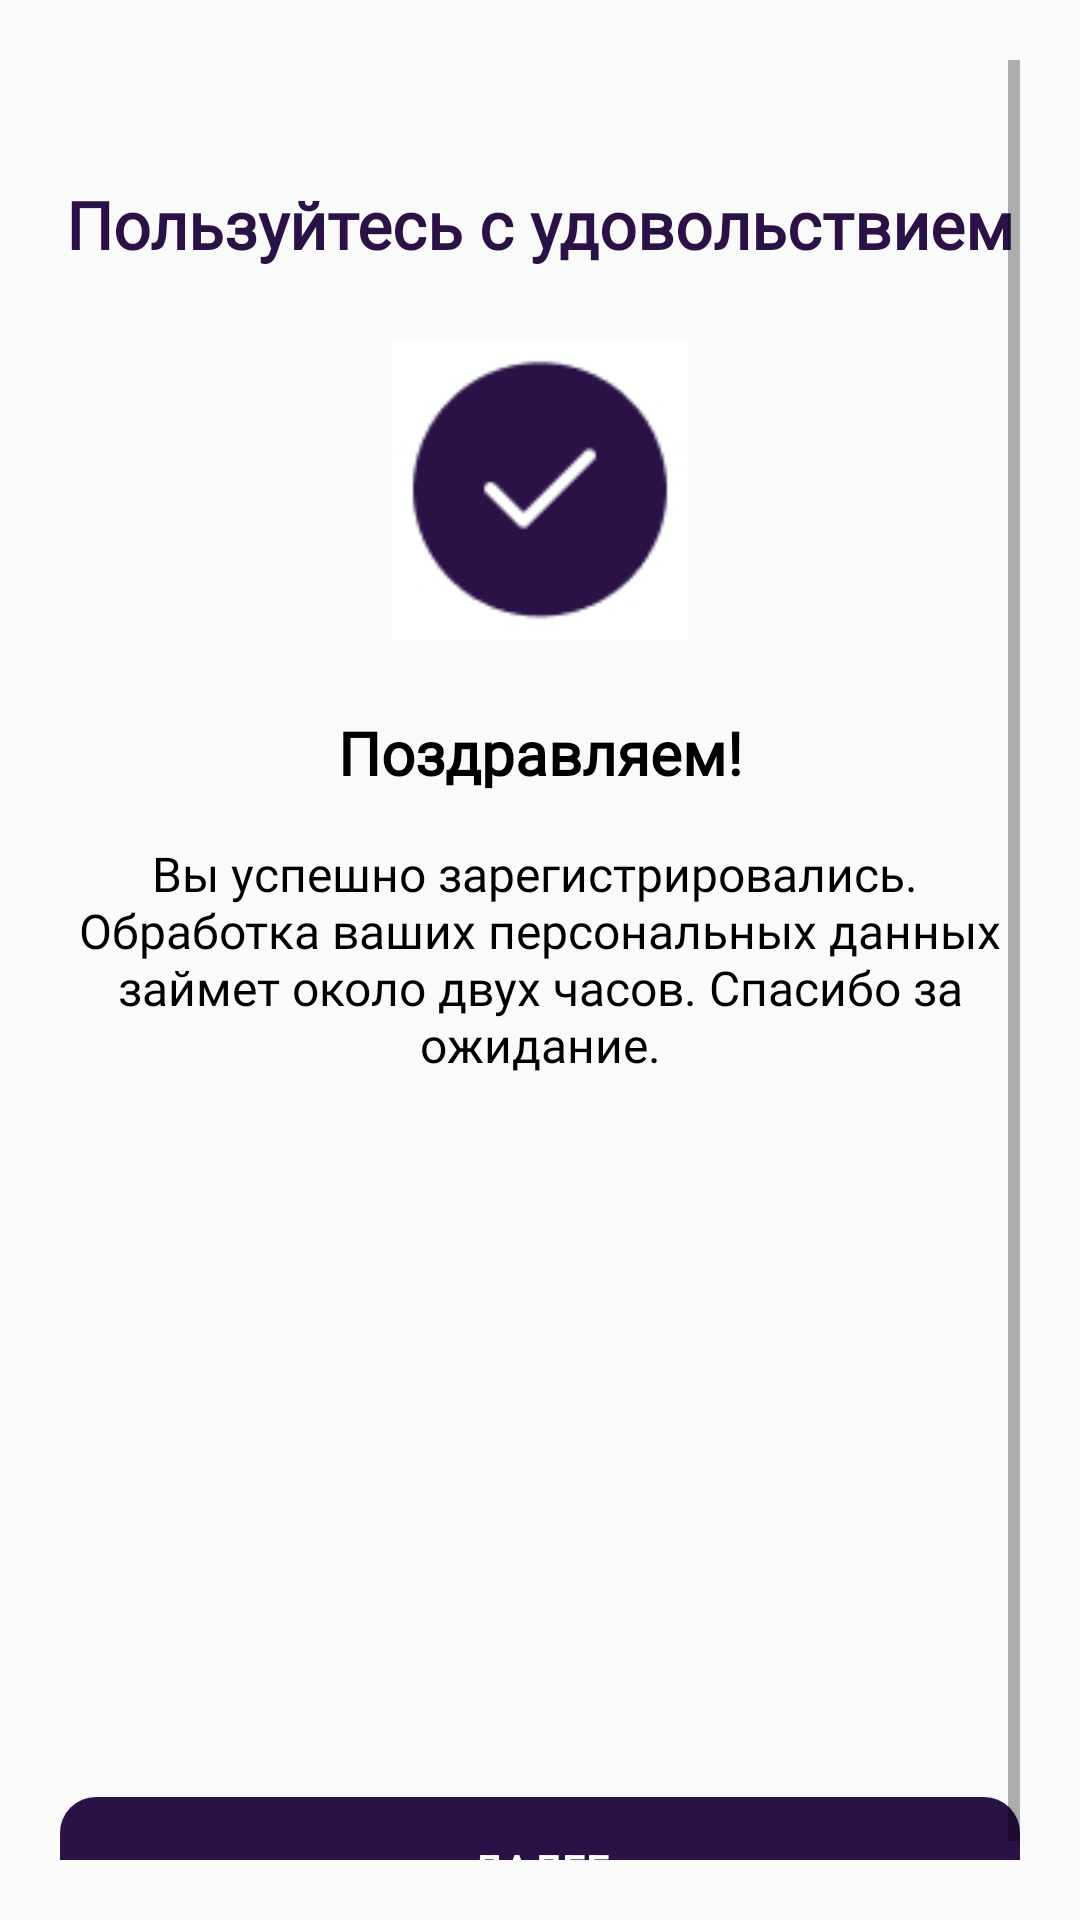

Point at icon controls on the screen. Image size 1080 x 1920, points as (x,y).
Успешно: (540,490)
